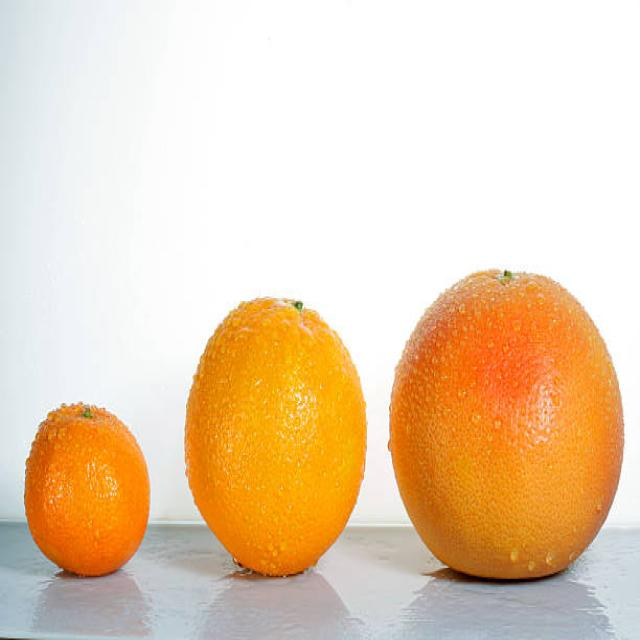Ripe: (386, 263, 627, 582), (181, 291, 372, 579), (22, 399, 153, 574)
